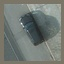car: (18, 12, 44, 47)
